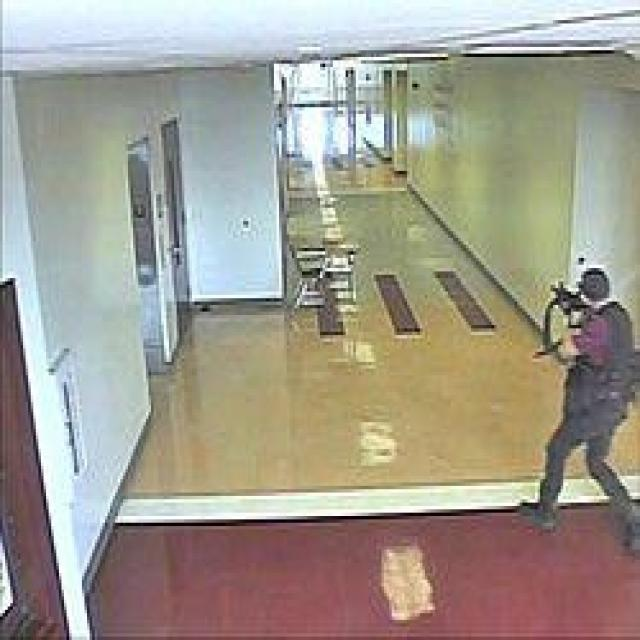gun: (544, 285, 600, 333)
